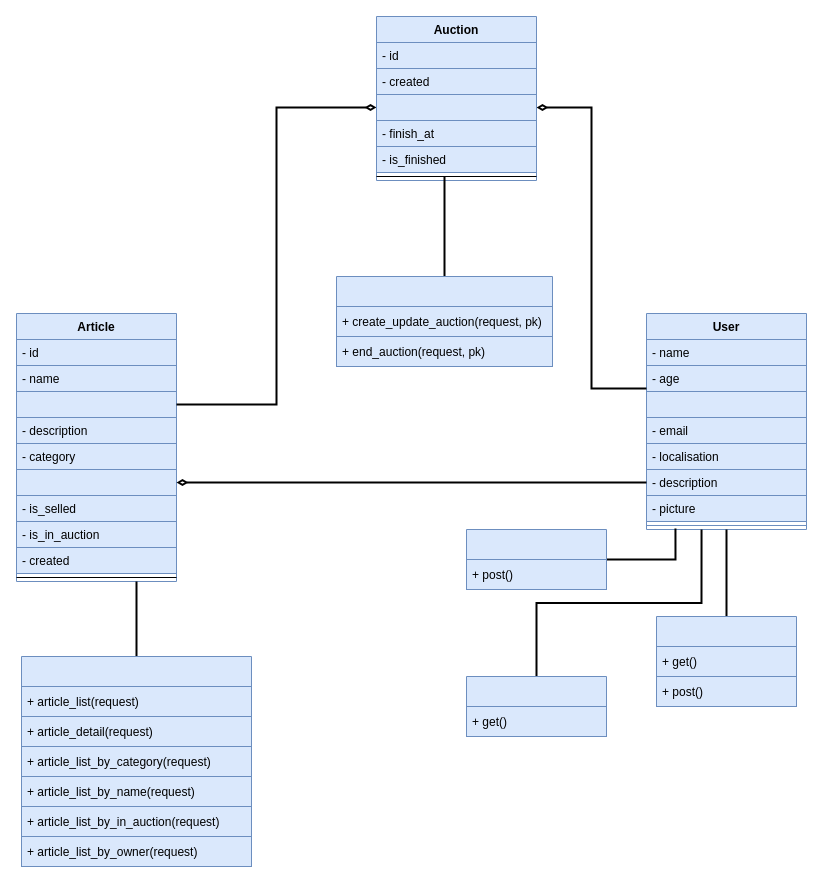
The diagram is 823 pixels wide and 883 high, and some of its shapes have lost their labels. The box of each missing label's shape, as (x1, y1, x2, y2) in pixels:
- best_price: (376, 94, 536, 120)
- image: (16, 468, 176, 496)
- initial_price: (16, 390, 176, 418)
- password: (646, 390, 806, 418)
ArticleView: (20, 656, 252, 866)
AuctionView: (336, 276, 552, 366)
LoginView: (466, 528, 606, 590)
LogoutView: (466, 676, 606, 736)
UserView: (656, 616, 796, 706)
